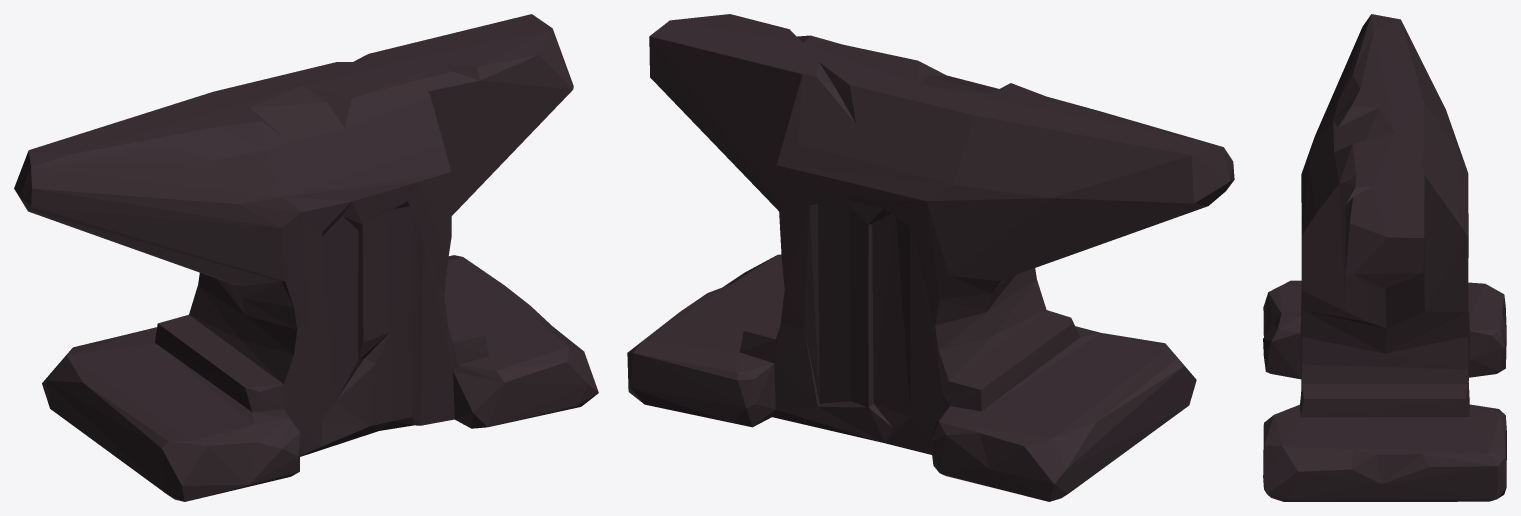
Rendered from MDungeon_Anvil.FBX.
The picture shows the model from 3 angles, left to right: view 1: azimuth 30°, elevation 25°; view 2: azimuth 150°, elevation 25°; view 3: azimuth 270°, elevation 25°; orthographic projection. The views are drawn at different scales.
Visible parts, largest first — view 1: MDungeon_Anvil_LOD0; view 2: MDungeon_Anvil_LOD0; view 3: MDungeon_Anvil_LOD0.
Boxes of the visible parts, bbox=[...] form: MDungeon_Anvil_LOD0: bbox=[14, 14, 598, 501]; MDungeon_Anvil_LOD0: bbox=[627, 14, 1234, 501]; MDungeon_Anvil_LOD0: bbox=[1263, 14, 1506, 501].
Size of what is drawn, in the model's own units: 1.9 by 1.07 by 0.8568.
1 material, 1 textured.
